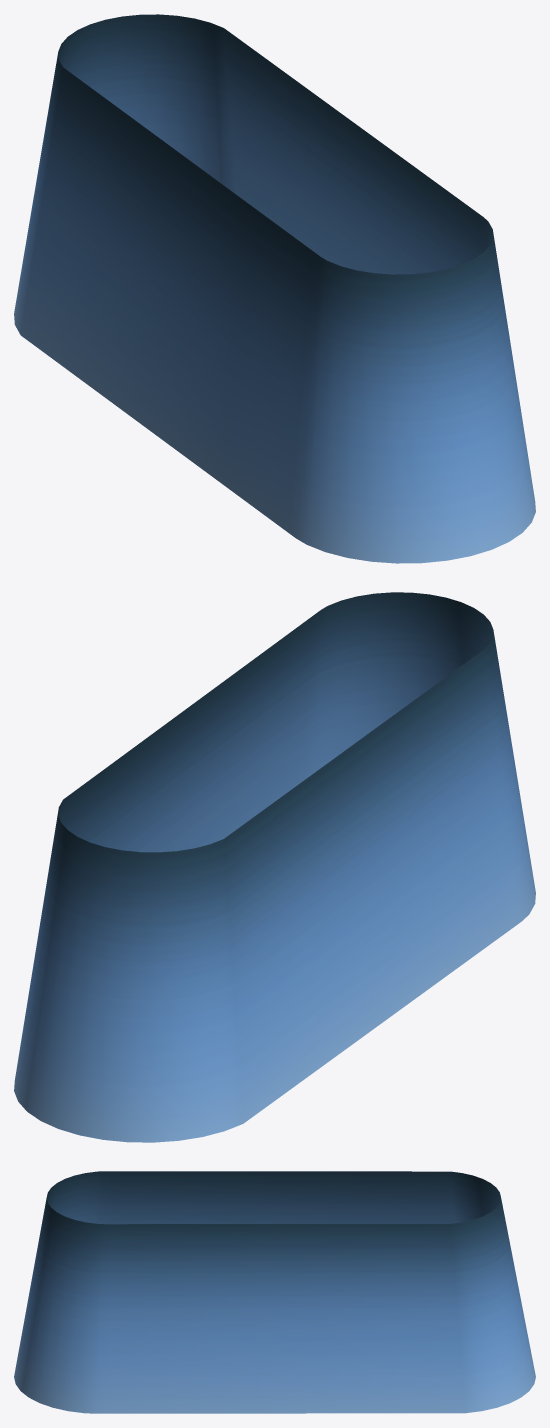
3 renders of one model, top to bottom at view 1: azimuth 30°, elevation 25°; view 2: azimuth 150°, elevation 25°; view 3: azimuth 270°, elevation 25°, orthographic. The views are drawn at different scales.
Visible parts, largest first — view 1: SM_FX_Cylinder_02; view 2: SM_FX_Cylinder_02; view 3: SM_FX_Cylinder_02.
Boxes of the visible parts, left/top/right/bottom form: SM_FX_Cylinder_02: left=14, top=14, right=535, bottom=563; SM_FX_Cylinder_02: left=14, top=592, right=535, bottom=1142; SM_FX_Cylinder_02: left=14, top=1171, right=535, bottom=1413.
Bounding box in the file's own units: 2.6 × 2.96 × 7.82.
